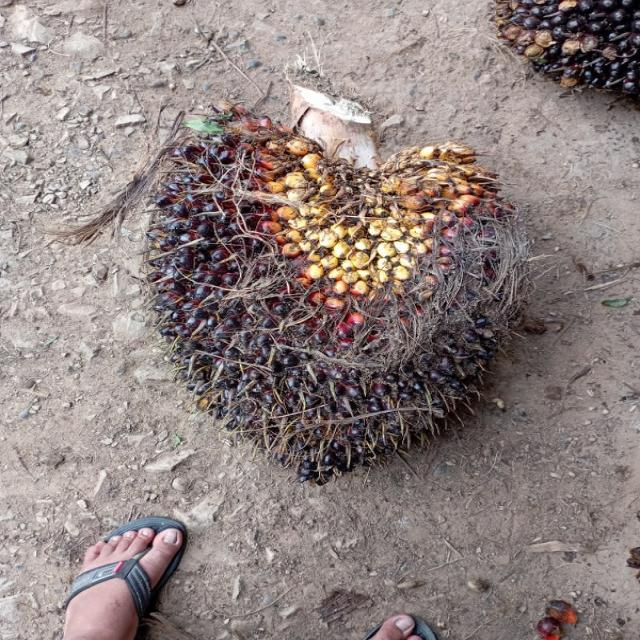fraksi 00: (145, 97, 539, 486)
